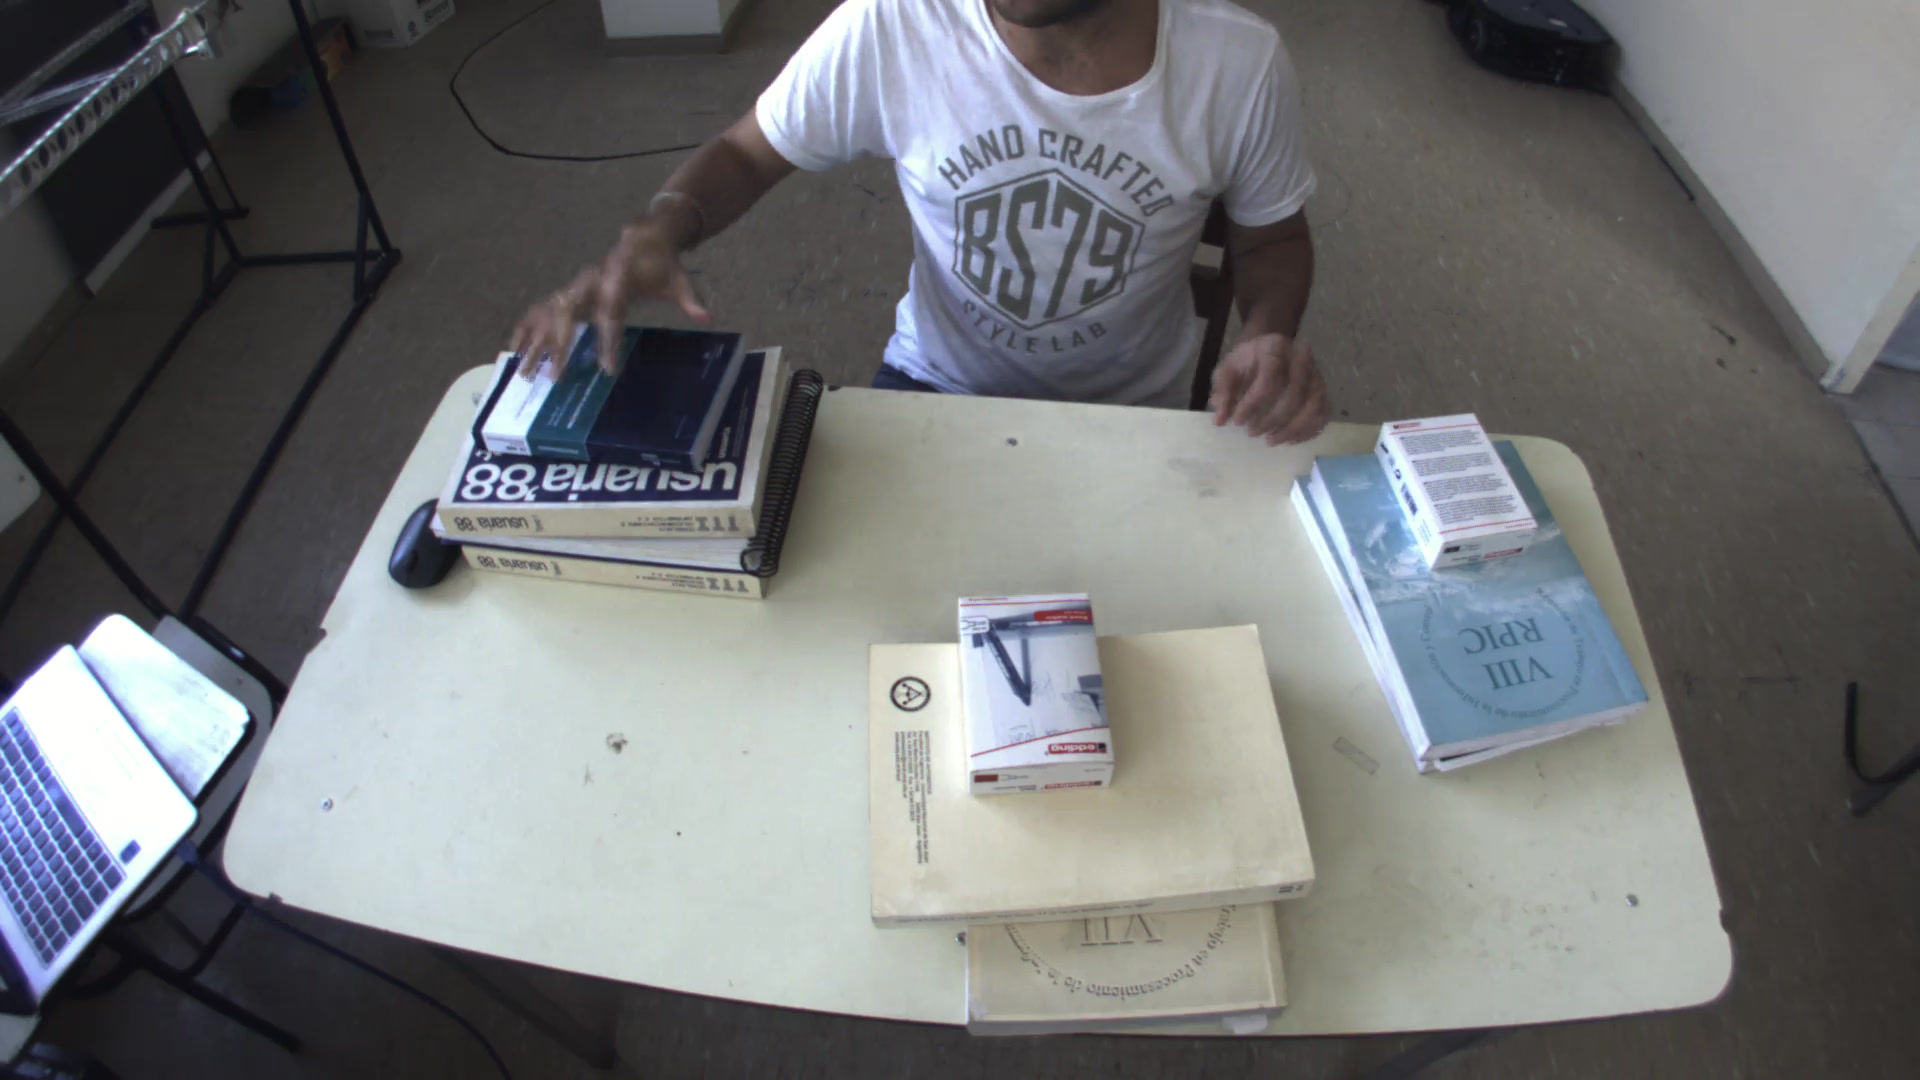hand: (502, 233, 716, 381), (1209, 319, 1342, 451)
